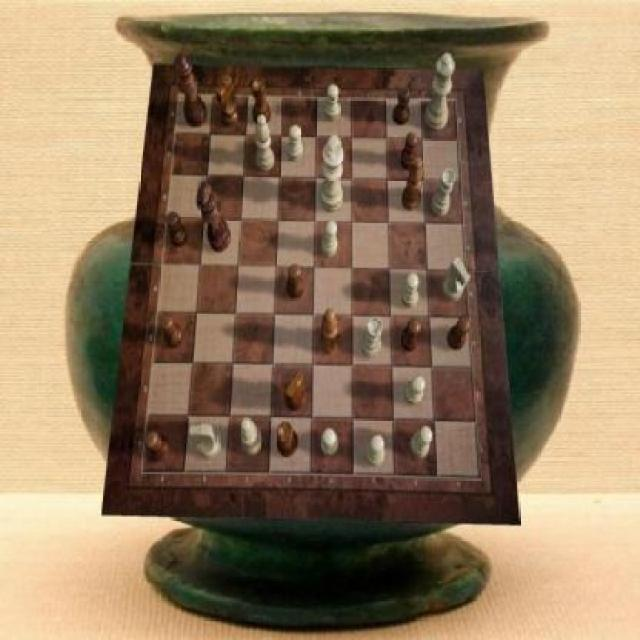bishop: (401, 157, 424, 211), (318, 310, 339, 356)
black-bishop: (197, 181, 232, 254)
black-king: (216, 75, 240, 128), (285, 371, 307, 411)
black-knight: (166, 212, 189, 248), (144, 431, 170, 462), (162, 316, 184, 350), (448, 317, 470, 351), (400, 132, 418, 170), (402, 318, 422, 352), (394, 88, 411, 126), (286, 265, 304, 299)
black-pawn: (174, 52, 208, 127)
black-queen: (252, 79, 272, 126), (277, 420, 298, 458)
black-rook: (256, 114, 276, 171), (240, 417, 263, 455)
white-bishop: (320, 135, 345, 213)
white-king: (443, 258, 471, 302), (189, 425, 222, 459)
white-knight: (411, 424, 434, 458), (366, 435, 386, 468), (403, 376, 425, 404), (402, 272, 419, 308), (322, 220, 338, 258), (288, 125, 304, 162), (324, 85, 340, 122), (320, 429, 338, 457)
white-pawn: (426, 52, 457, 130)
white-queen: (432, 169, 457, 217), (361, 315, 384, 358)
